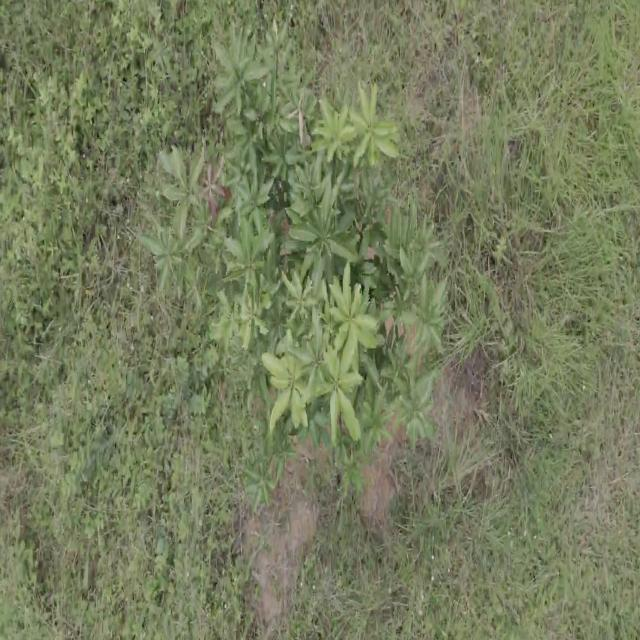mangoTree: (136, 11, 453, 464)
